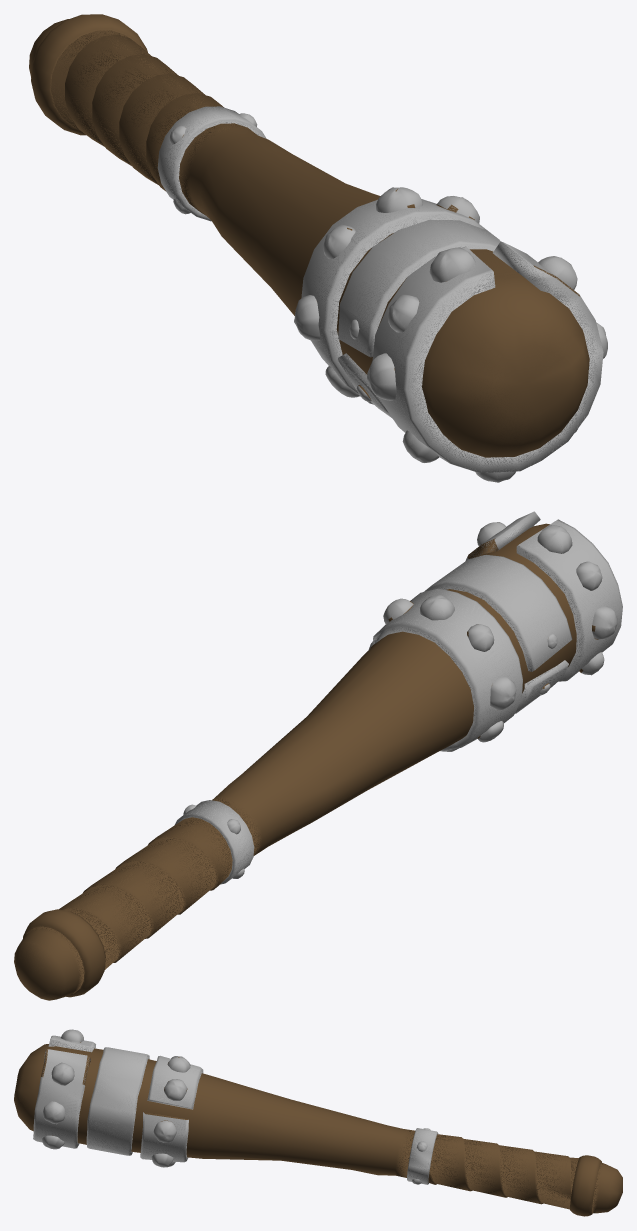
Rendered from troll_club.fbx.
3 renders of one model, top to bottom at view 1: azimuth 30°, elevation 25°; view 2: azimuth 150°, elevation 25°; view 3: azimuth 270°, elevation 25°, orthographic. The views are drawn at different scales.
Visible parts, largest first — view 1: club; view 2: club; view 3: club.
Boxes of the visible parts, box(x1,y1,x2,y2) form: club: box(29, 14, 607, 482); club: box(14, 511, 622, 1000); club: box(14, 1029, 622, 1216).
Size of the model in its own units: 110 by 108 by 407.
